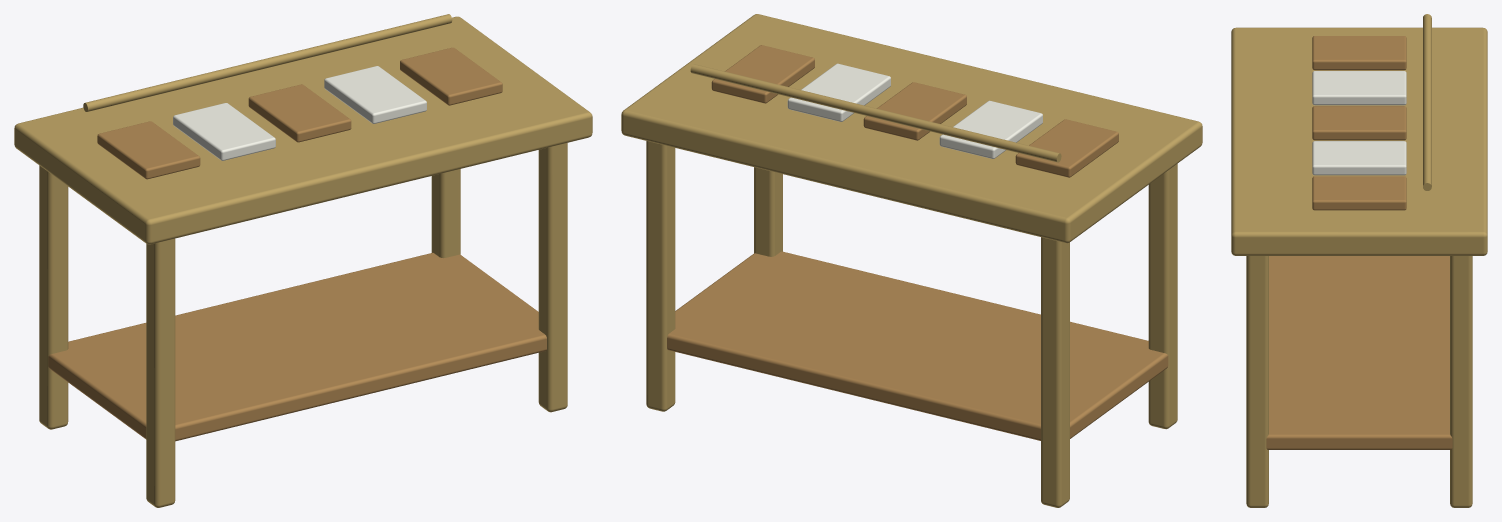
The model's file is abandoned-puppet-theatre-and-prop-vault-sound-effects--0300098d__31071.glb.
The picture shows the model from 3 angles, left to right: view 1: azimuth 30°, elevation 25°; view 2: azimuth 150°, elevation 25°; view 3: azimuth 270°, elevation 25°; orthographic projection. The views are drawn at different scales.
Parts seen in each view (by area): view 1: sound-effects-table; view 2: sound-effects-table; view 3: sound-effects-table.
Boxes of the visible parts, left/top/right/bottom form: sound-effects-table: left=14, top=14, right=592, bottom=507; sound-effects-table: left=621, top=14, right=1202, bottom=507; sound-effects-table: left=1231, top=14, right=1487, bottom=507.
Size of the model in its own units: 1.3 by 0.9219 by 0.6801.
